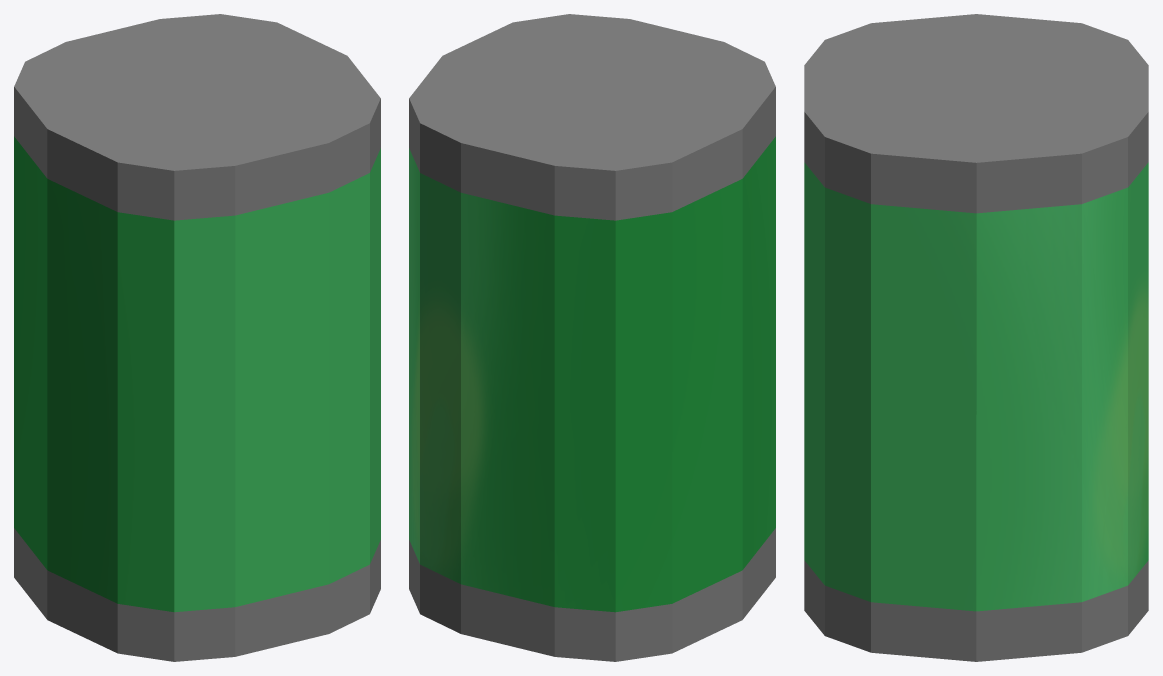
File: canned food.fbx
3 views of the same model, side by side, from view 1: azimuth 30°, elevation 25°; view 2: azimuth 150°, elevation 25°; view 3: azimuth 270°, elevation 25° (orthographic).
Visible parts, largest first — view 1: Cube; view 2: Cube; view 3: Cube.
Boxes of the visible parts, x1,y1,x2,y2 form: Cube: (14,14,380,661); Cube: (409,14,775,661); Cube: (804,14,1148,661).
Size of the model in its own units: 33.11 by 51.77 by 32.35.
